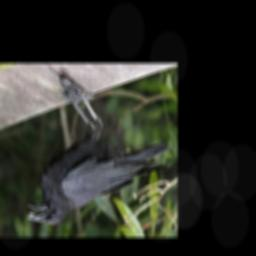Crow: (26, 84, 172, 225)
